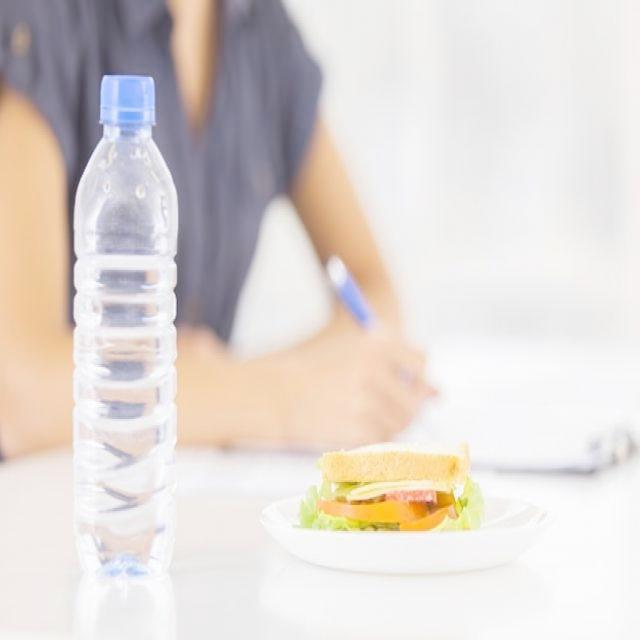bottle: (72, 76, 178, 640)
